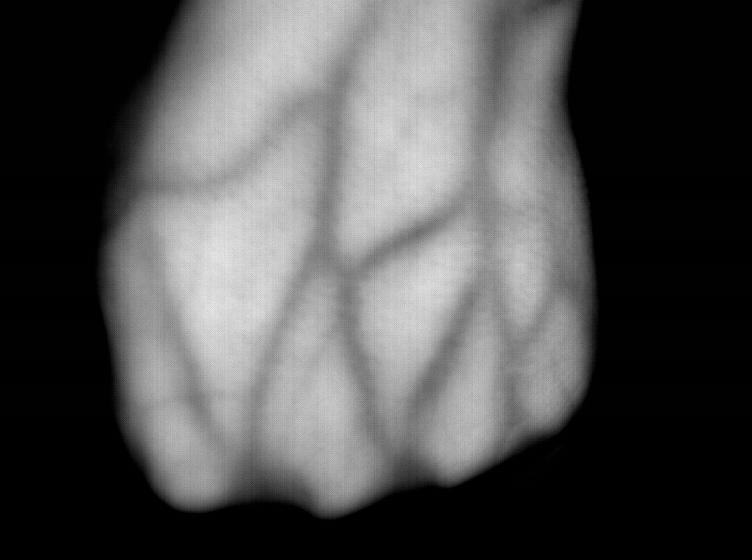Vein: (231, 22, 507, 381)
